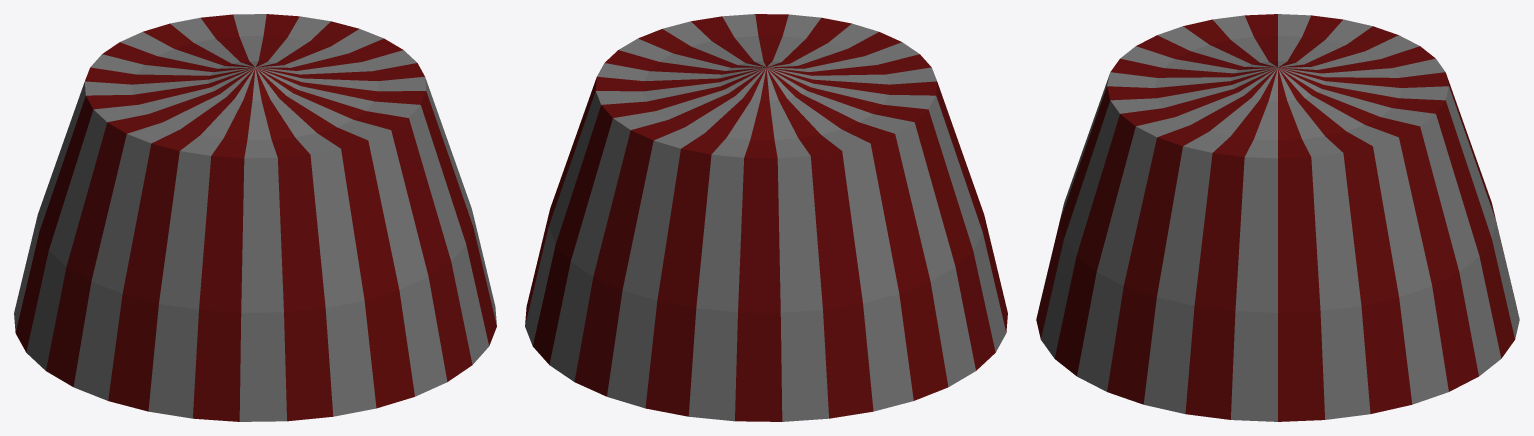
Rendered from Circus.obj.
3 views of the same model, side by side, from view 1: azimuth 30°, elevation 25°; view 2: azimuth 150°, elevation 25°; view 3: azimuth 270°, elevation 25° (orthographic).
Parts seen in each view (by area): view 1: Sphere; view 2: Sphere; view 3: Sphere.
Boxes of the visible parts, <box> form: Sphere: <box>14,14,496,421</box>; Sphere: <box>525,14,1007,421</box>; Sphere: <box>1036,14,1519,421</box>.
Bounding box in the file's own units: 2 × 1.15 × 2.
